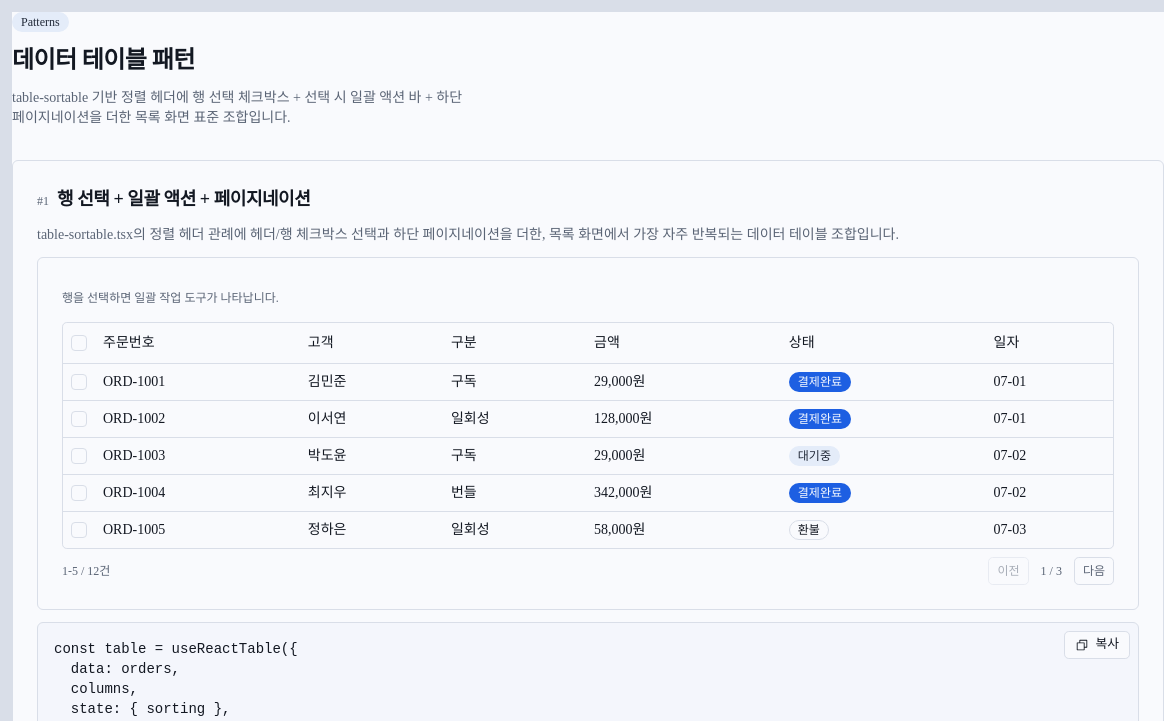
Scenario: DataTablePatternsPage › moves to the next page and keeps prior selection intact
Step 1. Click the checkbox named "ORD-1001 선택" → [79, 382], box 71,374 -> 87,390
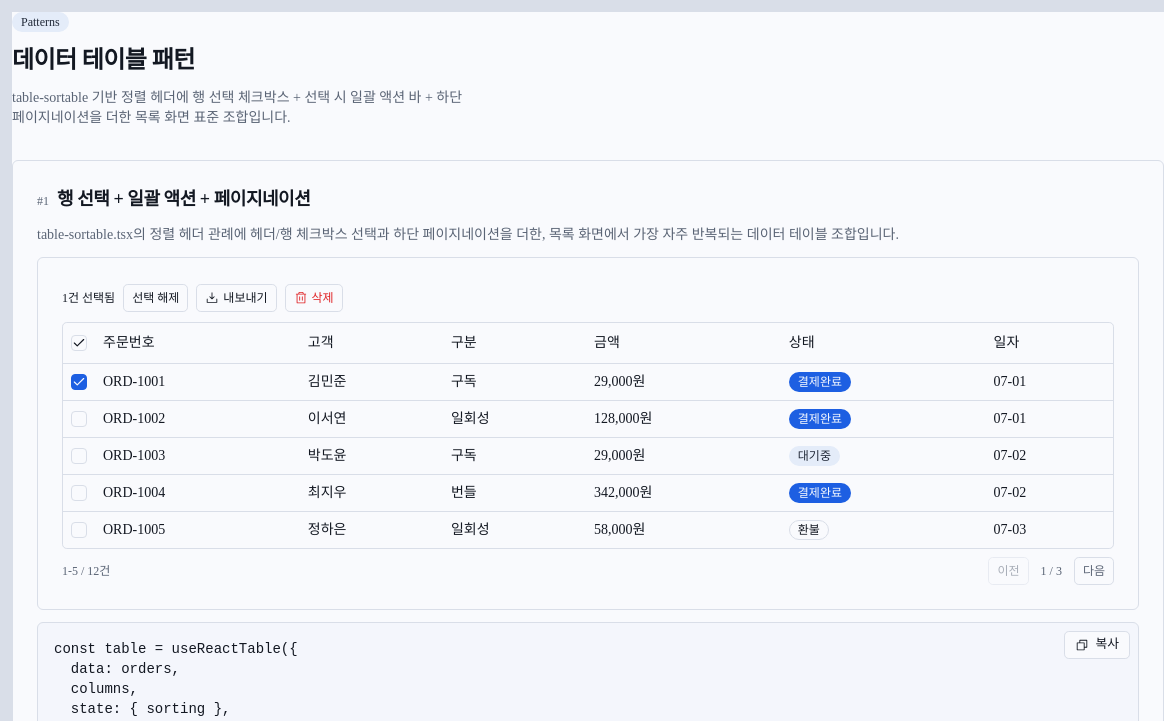
Step 2. Click the button "다음" → [1094, 570], box 1074,556 -> 1114,584
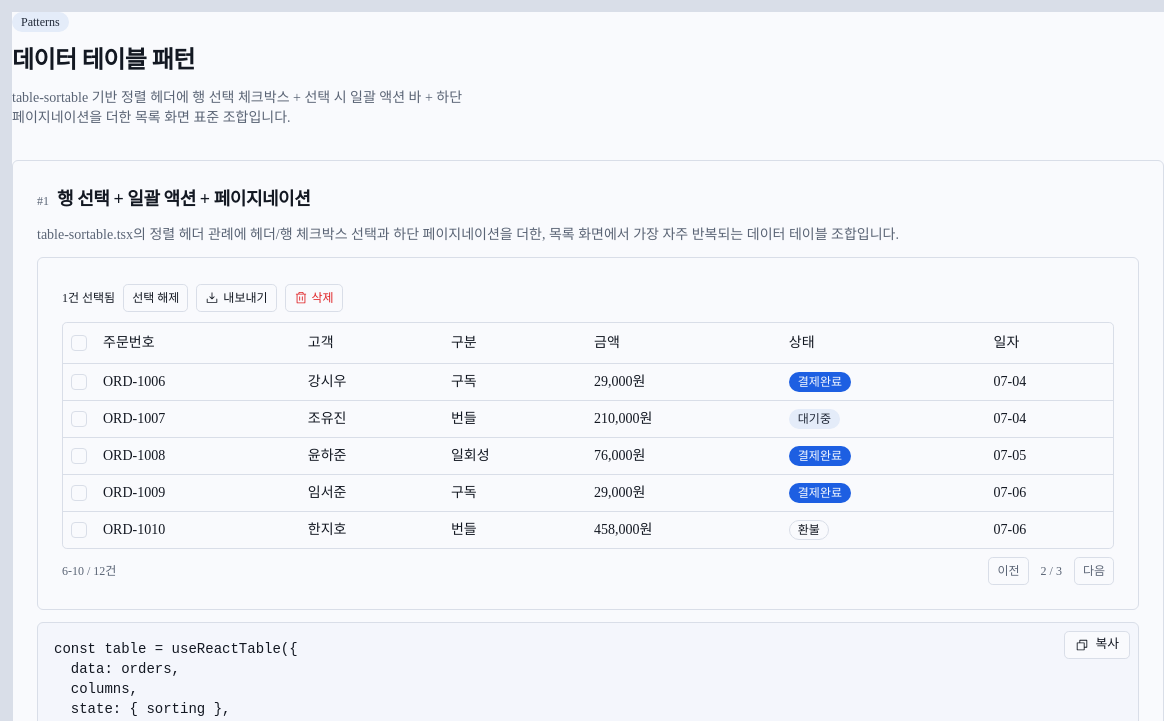
Result: the text "1건 선택됨" is shown at 62,290 -> 115,306
Result: the text "2 / 3" is shown at 1041,564 -> 1062,578
Result: the text "ORD-1006" is shown at 95,363 -> 300,400
